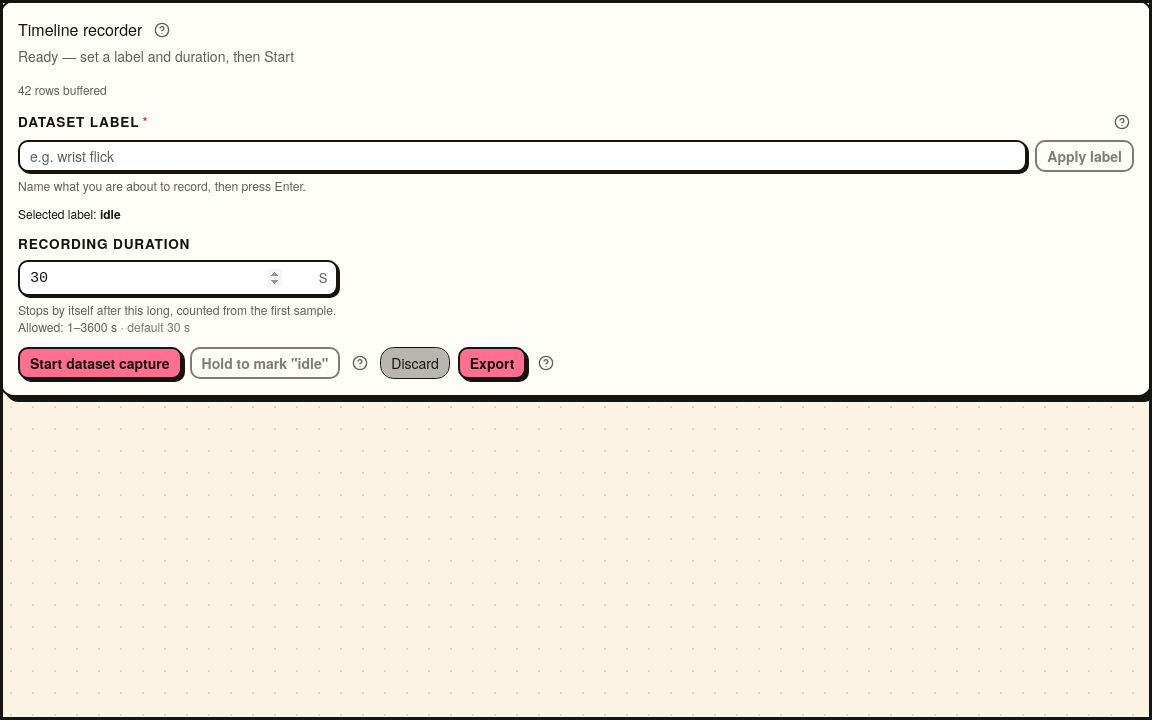
Test: DatasetCaptureCard › requires confirmation before discarding a session, closes the dialog on cancel, and does not discard
Click the button "Discard": (415, 363) [380,347,450,379]
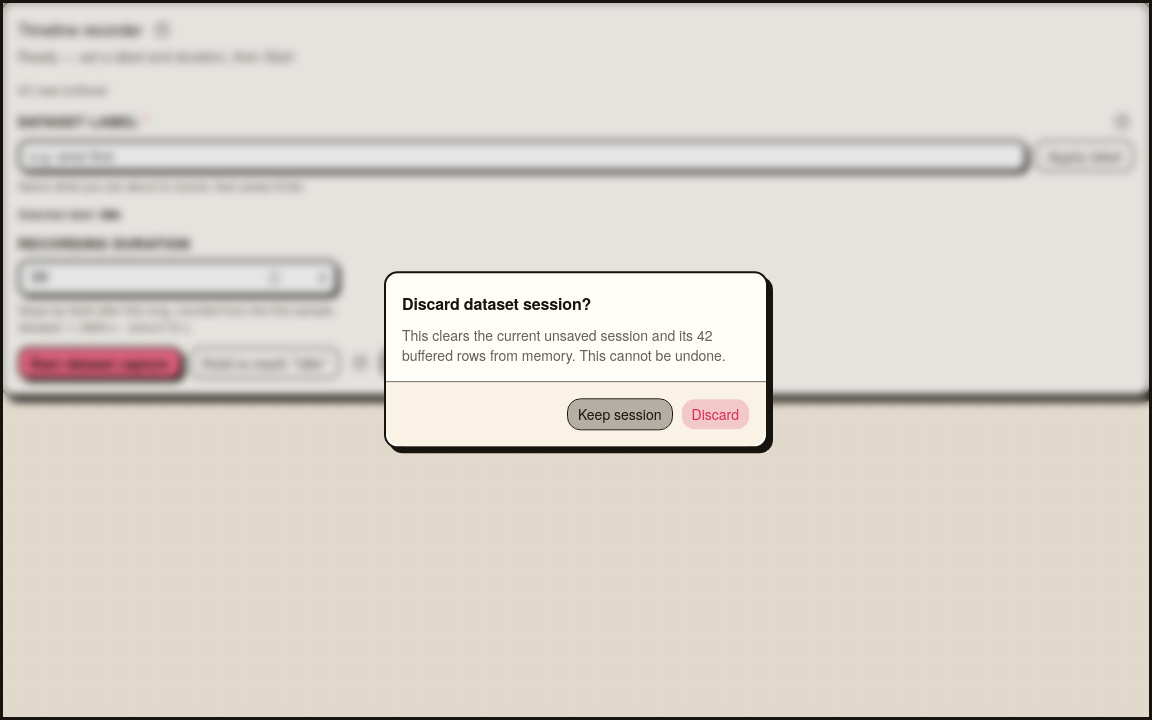
Check: the heading "Discard dataset session?" is shown, box [402,292,591,316]
Click the button "Keep session": (620, 415) [567,399,672,431]
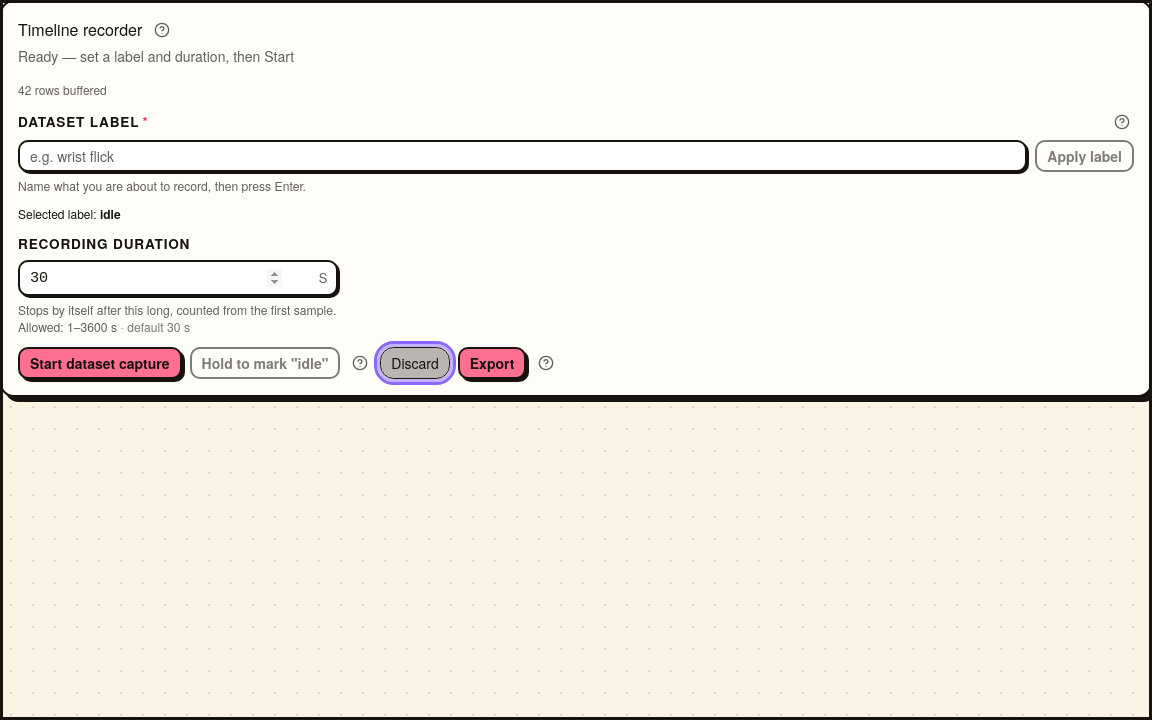
Check: the heading "Discard dataset session?" is gone
